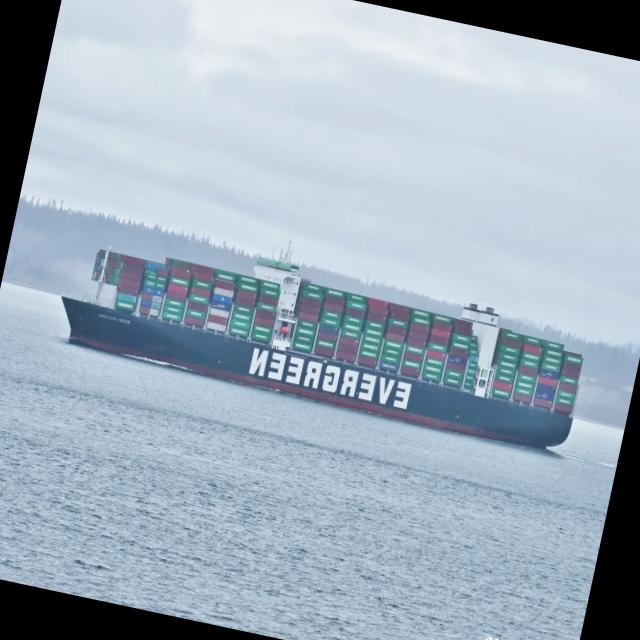Cargo: (62, 249, 582, 447)
